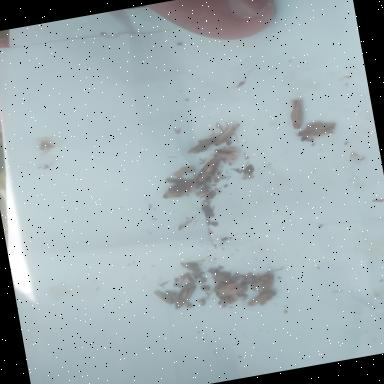pbw: (296, 115, 340, 138), (160, 177, 200, 202), (192, 156, 224, 187), (170, 280, 202, 310), (184, 134, 220, 157), (286, 97, 310, 130), (214, 142, 243, 168), (213, 122, 243, 146), (210, 280, 242, 300), (244, 290, 279, 308), (206, 262, 232, 284), (152, 285, 178, 306), (258, 270, 280, 294)
